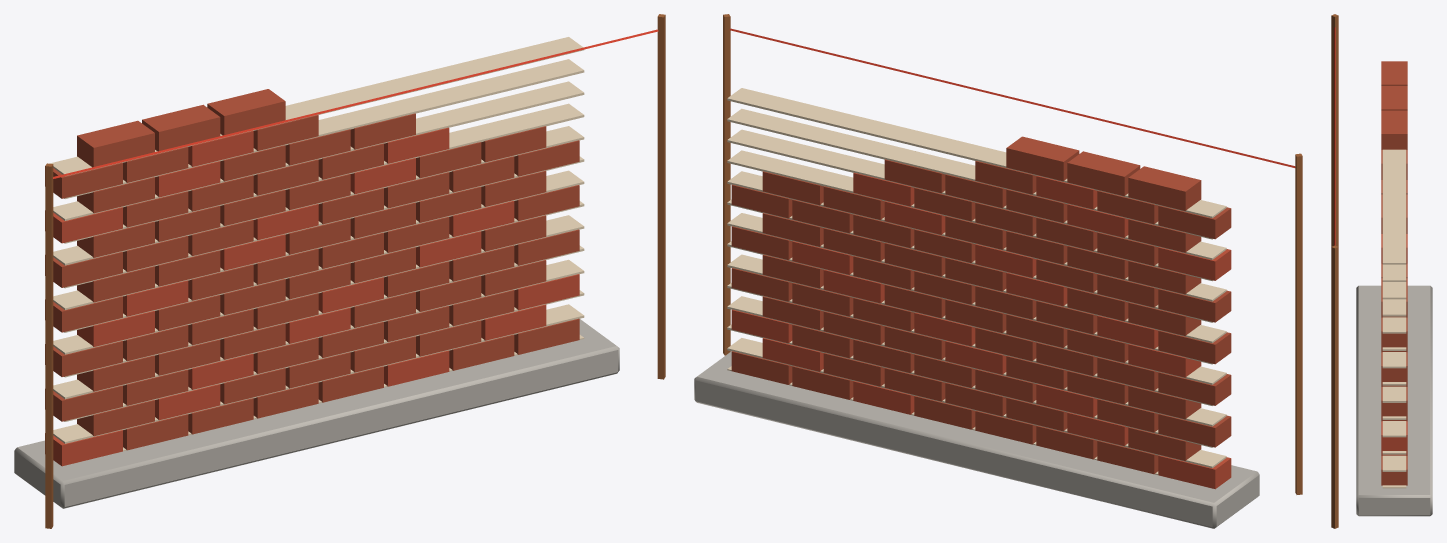
Rendered from growth_wall_rising.glb.
The picture shows the model from 3 angles, left to right: view 1: azimuth 30°, elevation 25°; view 2: azimuth 150°, elevation 25°; view 3: azimuth 270°, elevation 25°; orthographic projection. The views are drawn at different scales.
Visible parts, largest first — view 1: growth_wall_rising; view 2: growth_wall_rising; view 3: growth_wall_rising.
Part boxes in pixels (bbox=[...]): growth_wall_rising: bbox=[14, 14, 665, 528]; growth_wall_rising: bbox=[694, 14, 1302, 528]; growth_wall_rising: bbox=[1331, 14, 1432, 528].
Bounding box in the file's own units: 2.33 × 1.3 × 0.425.
Materials: 1 (1 with a texture image).
